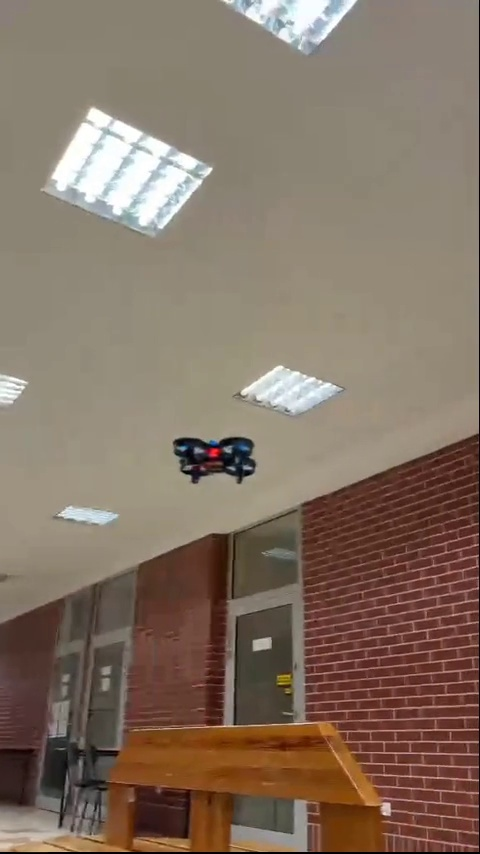drone: (171, 438, 259, 481)
